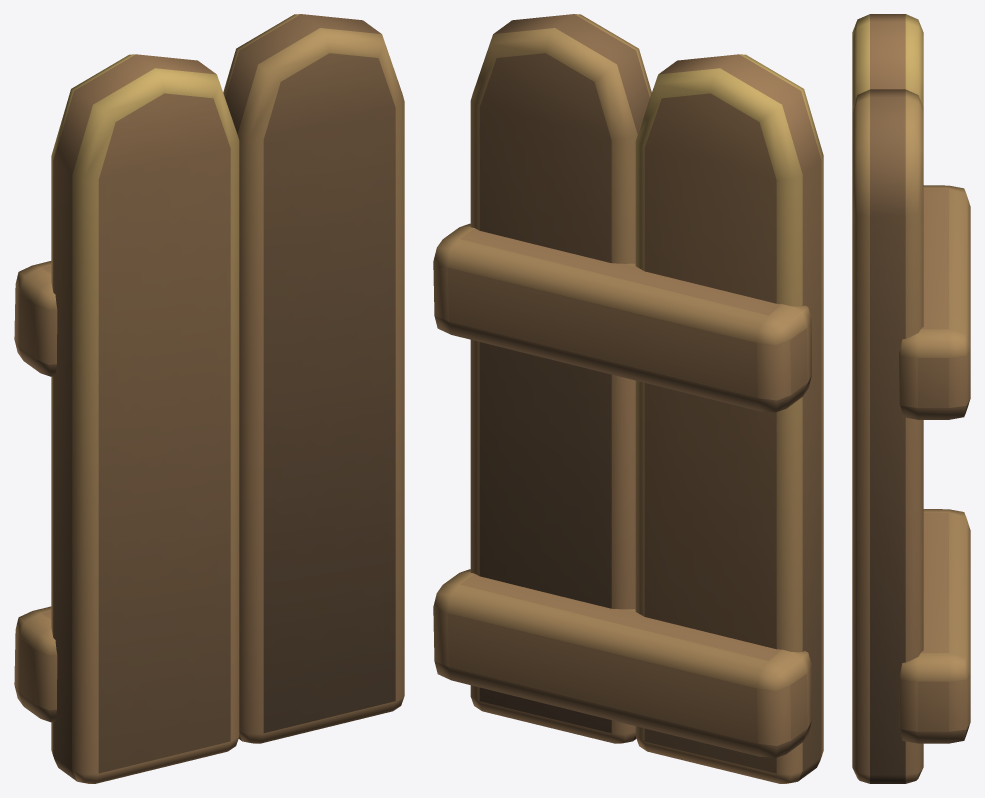
File: fence1_1_LOD_setup.fbx
The picture shows the model from 3 angles, left to right: view 1: azimuth 30°, elevation 25°; view 2: azimuth 150°, elevation 25°; view 3: azimuth 270°, elevation 25°; orthographic projection. The views are drawn at different scales.
Parts seen in each view (by area): view 1: fence1_1_LOD0; view 2: fence1_1_LOD0; view 3: fence1_1_LOD0.
Part boxes in pixels (bbox=[...]): fence1_1_LOD0: bbox=[14, 14, 404, 783]; fence1_1_LOD0: bbox=[433, 14, 823, 783]; fence1_1_LOD0: bbox=[852, 14, 970, 783].
Size of what is drawn, in the model's own units: 107 by 202 by 33.19.
